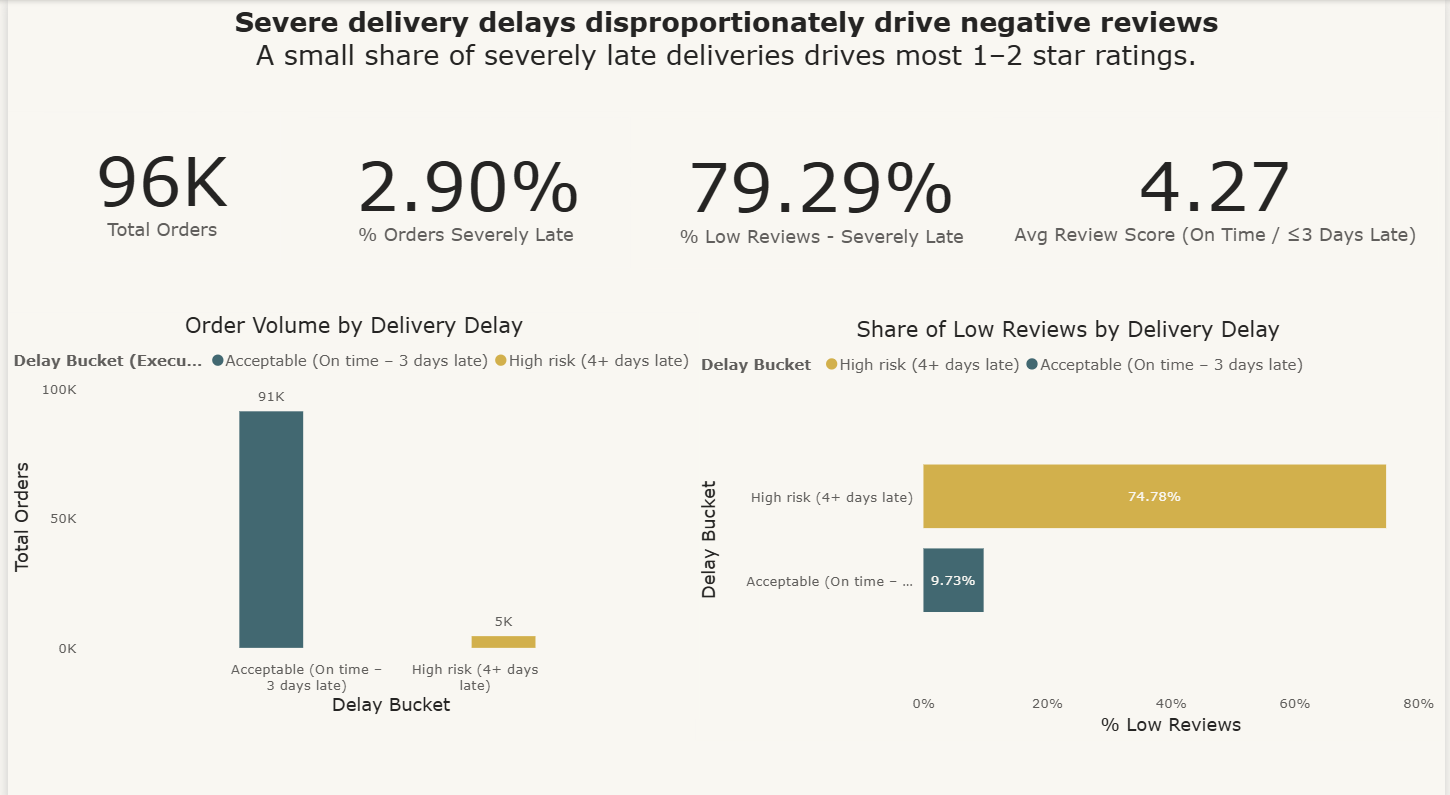

What the dashboard file says about the page in this screenshot:
{"tool":"powerbi","page":{"name":"Page 1","canvas":[1280,720],"ordinal":0},"visuals":[{"type":"barChart","title":"Share of Low Reviews by Delivery Delay","fields":{"Category":["order_delivery_reviews.Delay Bucket (Executive)"],"Y":["order_delivery_reviews.% Low Reviews"],"Series":["order_delivery_reviews.Delay Bucket (Executive)"]},"box":[612.8,281.4,664,377.9],"z":0},{"type":"card","fields":{"Values":["order_delivery_reviews.% Low Reviews (8+ Days Late)"]},"box":[566.3,105.8,316.3,133.7],"z":1000},{"type":"clusteredColumnChart","title":"Order Volume by Delivery Delay","fields":{"Category":["order_delivery_reviews.Delay Bucket (Executive)"],"Y":["order_delivery_reviews.Total Orders"],"Series":["order_delivery_reviews.Delay Bucket (Executive)"]},"box":[0,277.9,616.3,362.8],"z":2000},{"type":"textbox","box":[0,0,1279.8,99.4],"z":3000},{"type":"card","fields":{"Values":["order_delivery_reviews.Total Orders"]},"box":[32.6,100,210.5,133.7],"z":4000},{"type":"card","fields":{"Values":["order_delivery_reviews.% Orders 8+ Days Late"]},"box":[267.2,104.6,287.2,133.6],"z":5000},{"type":"card","fields":{"Values":["order_delivery_reviews.Avg Review Score (On Time / ≤3 Days Late)"]},"box":[876.7,104.7,396.5,133.7],"z":6000}]}

Visuals, with their boxes in screenshot pixels (x1, y1, x2, y2), scaled from the page's 1280x720 canvas onto the 1450x795 screenshot:
"Share of Low Reviews by Delivery Delay" barChart: 694:311:1446:728
card - order_delivery_reviews.% Low Reviews (8+ Days Late): 642:117:1000:264
"Order Volume by Delivery Delay" clusteredColumnChart: 0:307:698:707
textbox: 0:0:1449:110
card - order_delivery_reviews.Total Orders: 37:110:275:258
card - order_delivery_reviews.% Orders 8+ Days Late: 303:115:628:263
card - order_delivery_reviews.Avg Review Score (On Time / ≤3 Days Late): 993:116:1442:263
